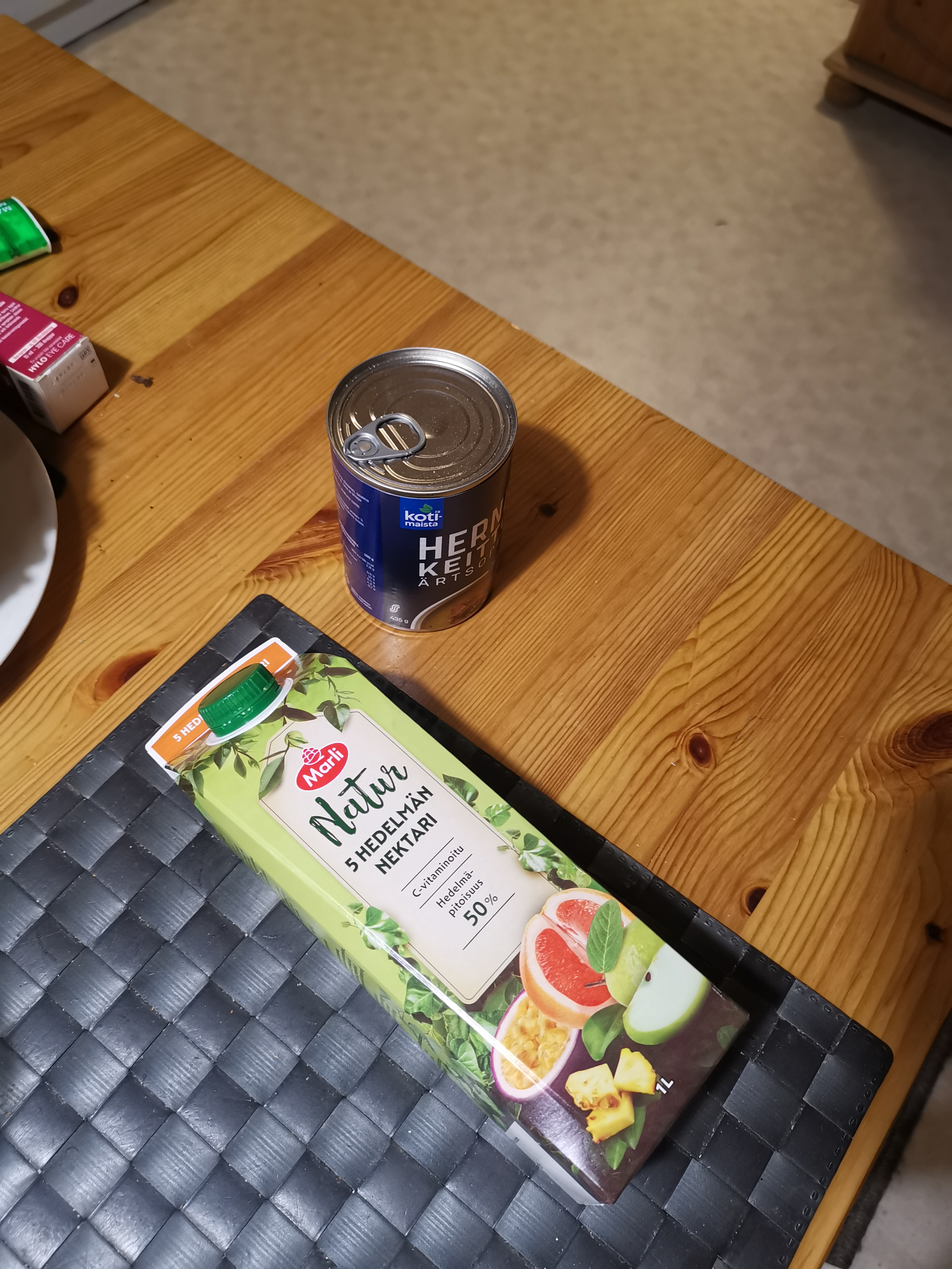Dryckeskartong: (143, 634, 749, 1209)
Konservburk: (323, 343, 521, 635)
